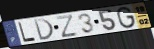3: (78, 13, 96, 34)
5: (97, 9, 117, 31)
D: (33, 18, 56, 41)
G: (116, 6, 137, 30)
L: (17, 21, 37, 43)
Z: (55, 14, 80, 39)
